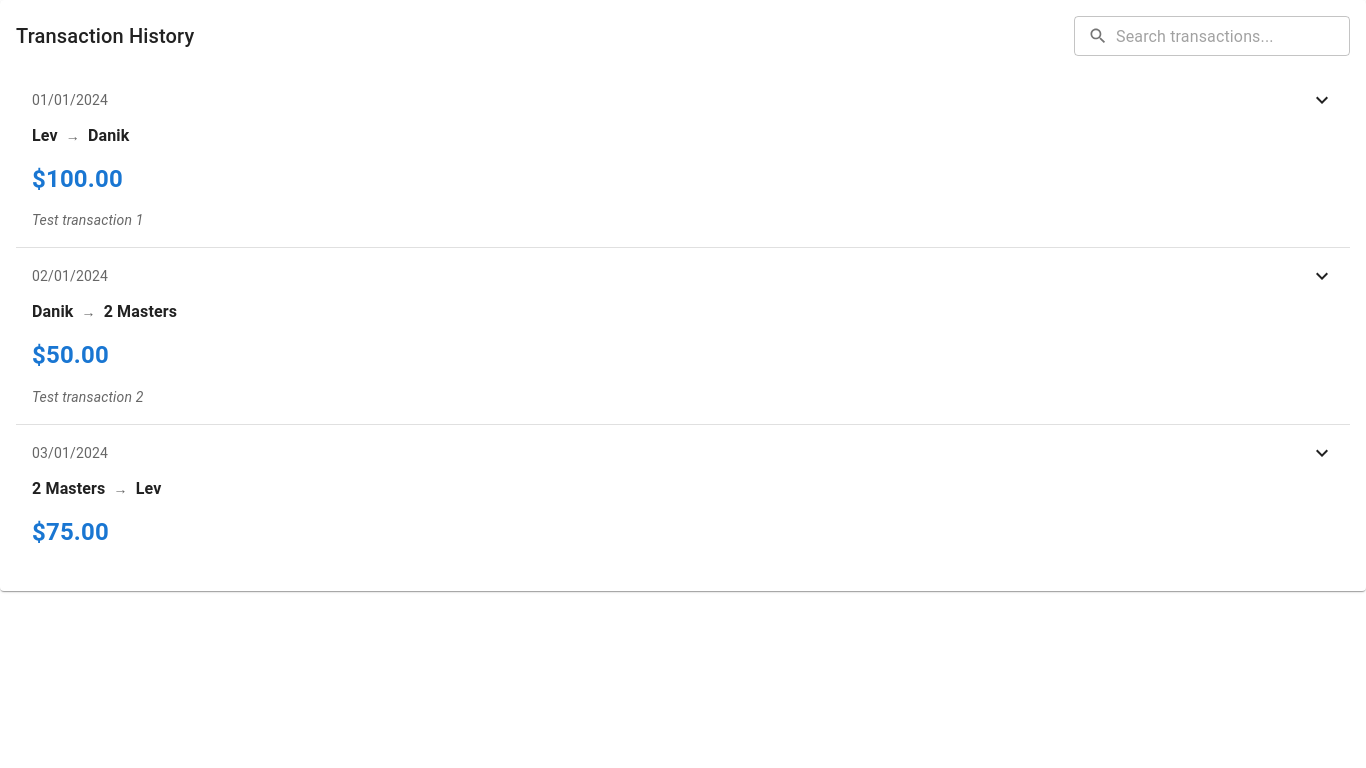
Test case: TransactionHistory › Search Functionality › should filter transactions by entity name
Type "lev" into the field with placeholder "Search transactions..." at point(1233, 36), box [1116,16,1350,56]
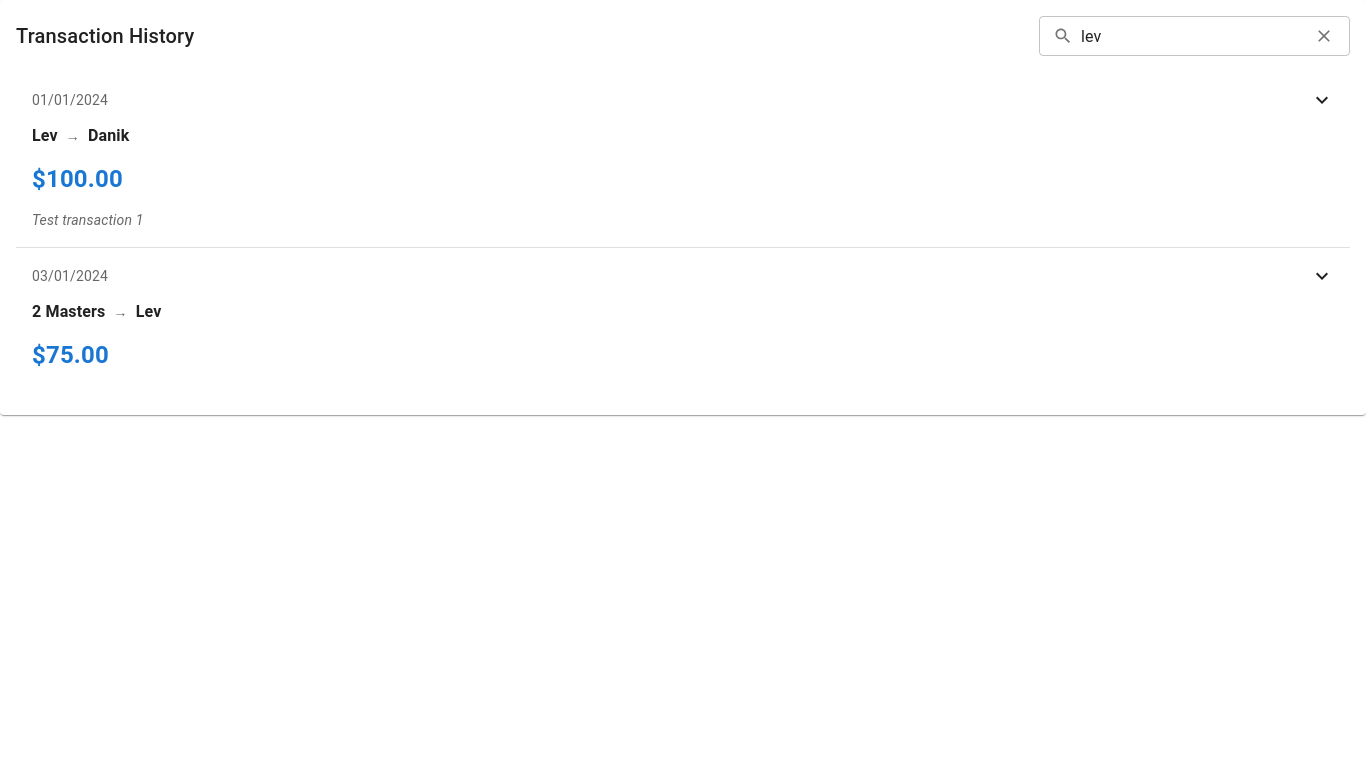
Expected: the heading "$100.00" is shown, [32,165,123,193]
Expected: the heading "$50.00" is gone
